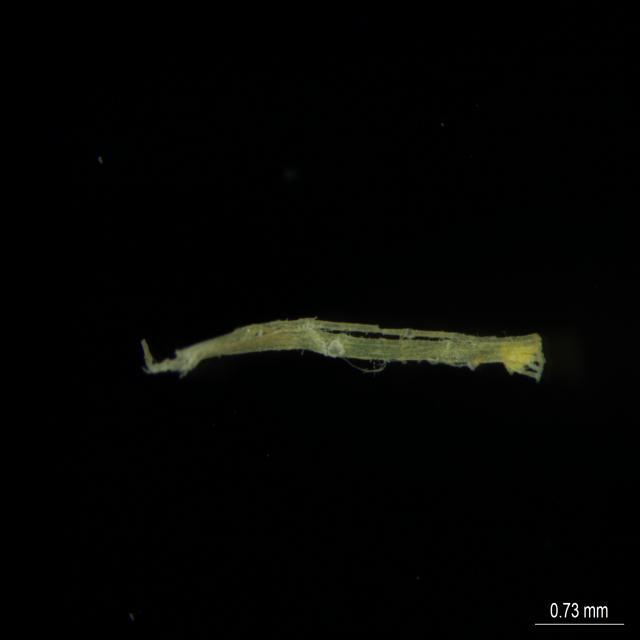fibers: (141, 318, 546, 381)
